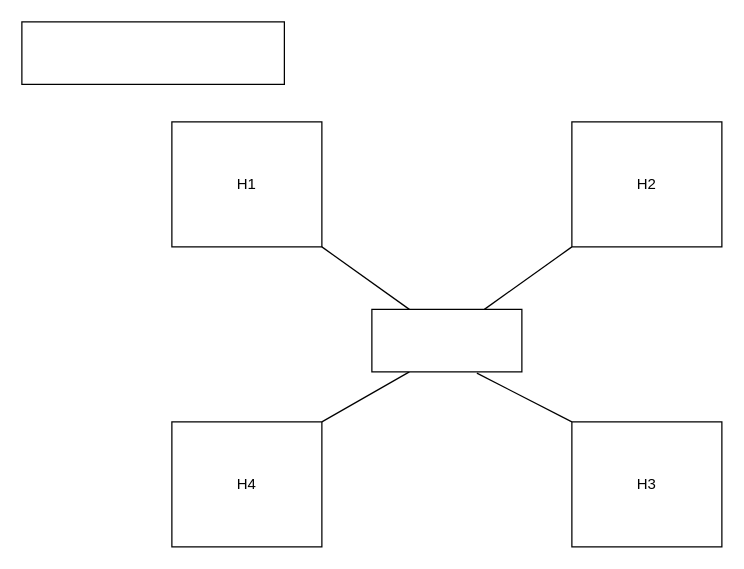
The diagram is 744 pixels wide and 569 high, and some of its shapes have lost their labels. The shapes that lost their labels are listed below. From the top down, each one's centre as x and y in pixels, then its label:
At point 152,52: "Graham Ranie Week4-Task3-LanA".
At point 446,340: "SWITCH".
